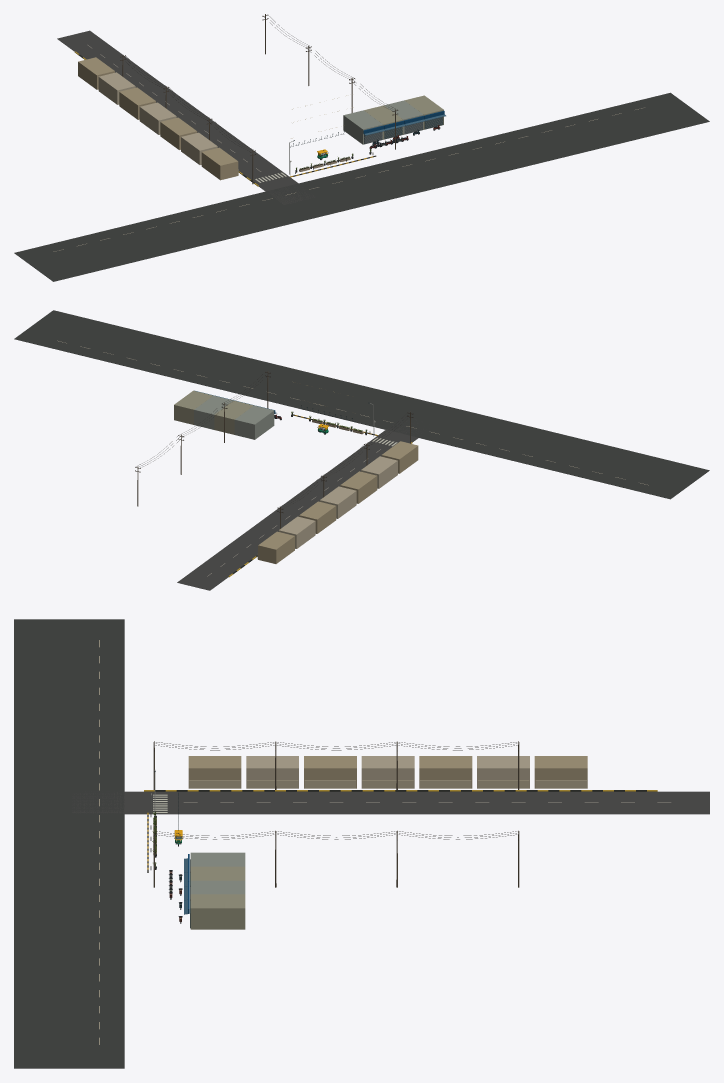
File: street.glb
3 views of the same model, one above another, from view 1: azimuth 30°, elevation 25°; view 2: azimuth 150°, elevation 25°; view 3: azimuth 270°, elevation 25° (orthographic). The views are drawn at different scales.
Visible parts, largest first — view 1: Street; view 2: Street; view 3: Street.
Part boxes in pixels (box(x1,y1,x2,y2)): Street: box(14, 14, 709, 281); Street: box(14, 310, 709, 590); Street: box(14, 619, 709, 1068).
Size of the model in its own units: 175 by 14.62 by 115.
